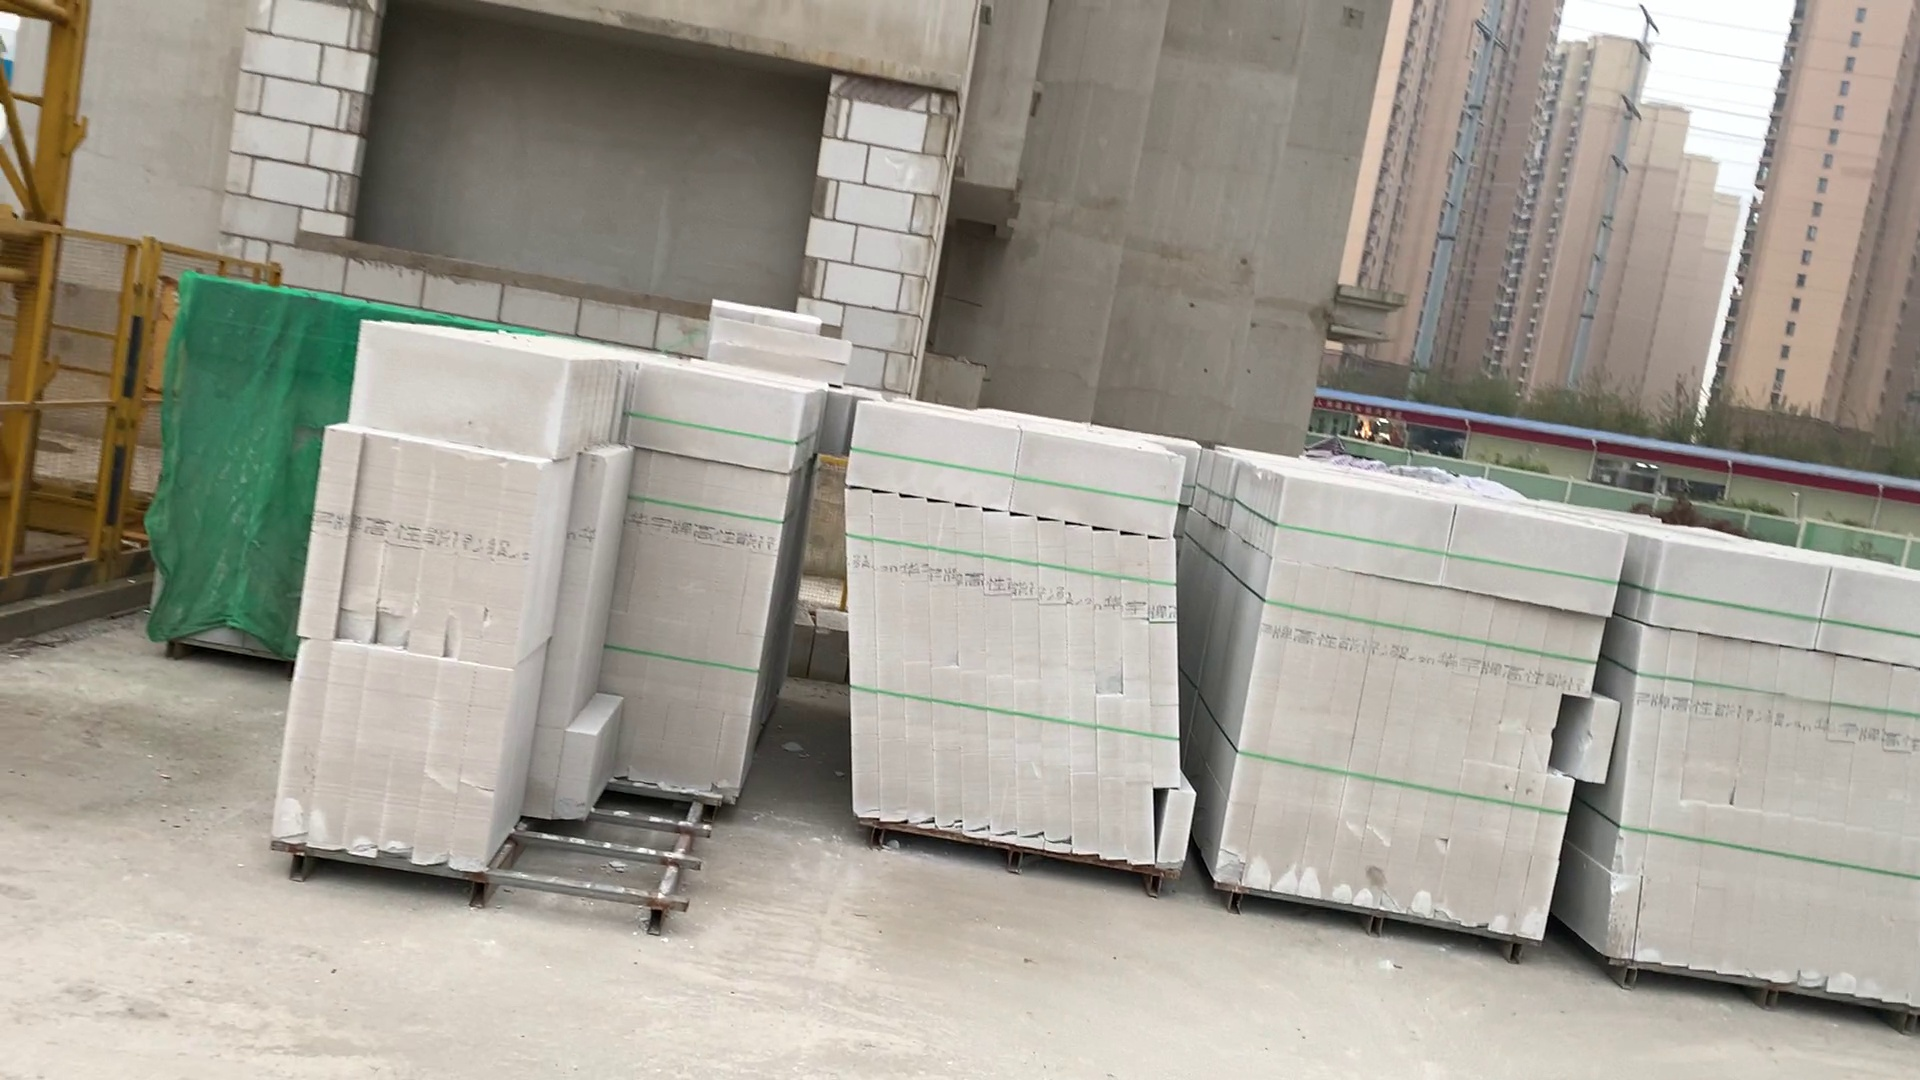brickwork: (284, 335, 804, 919), (1207, 462, 1577, 945), (841, 404, 1199, 885), (1602, 541, 1917, 1011), (152, 262, 328, 647)
